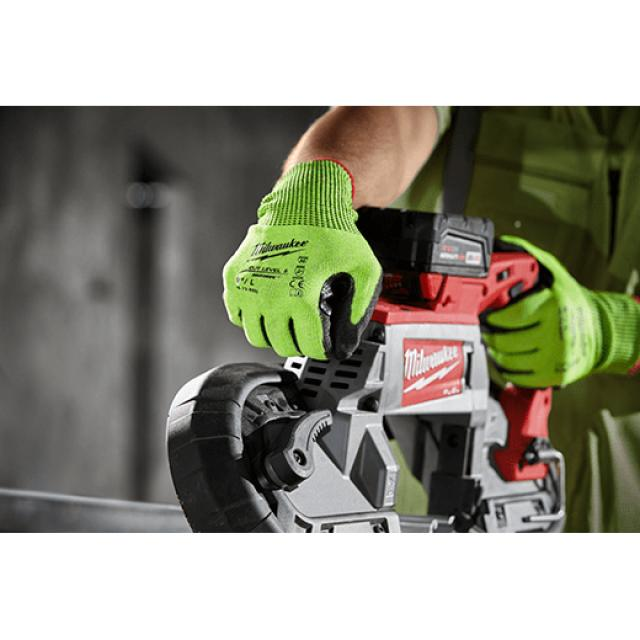gloves: (222, 159, 382, 359), (480, 230, 640, 392)
